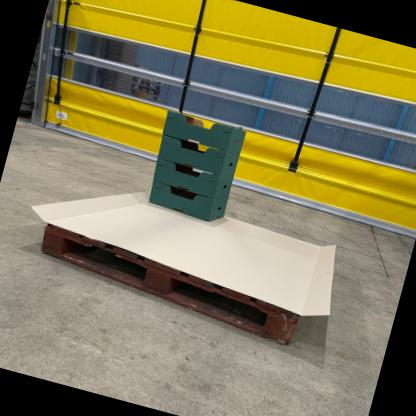BoxFace: (34, 221, 292, 353)
